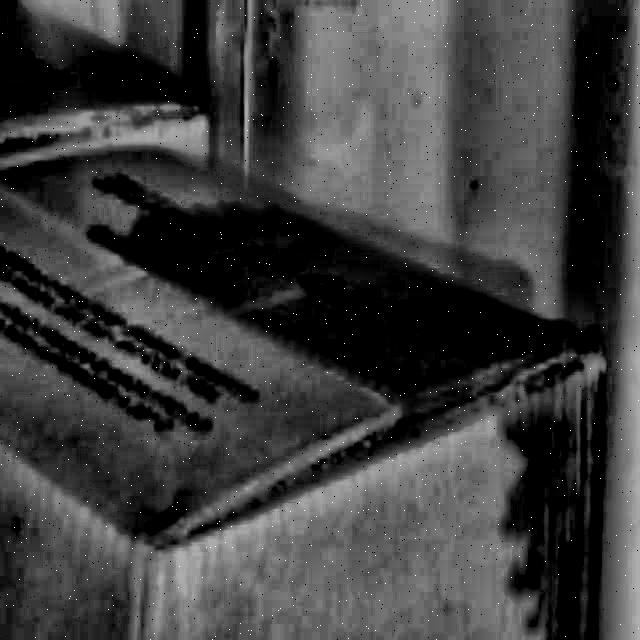box: (0, 140, 617, 639)
wet: (143, 188, 587, 386), (485, 354, 609, 640)
